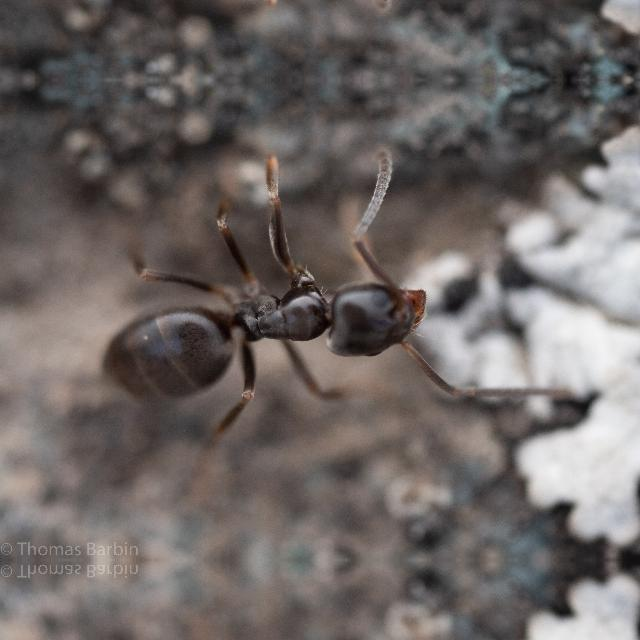Tapinoma: (62, 205, 480, 438)
